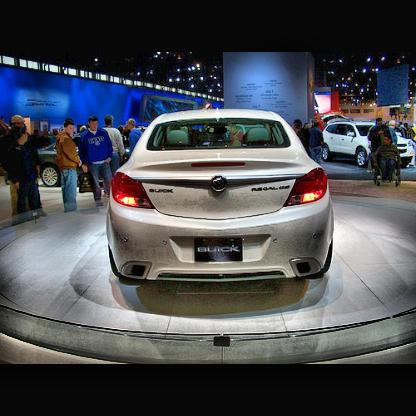Buick Regal GS 2012: (106, 111, 335, 310)
